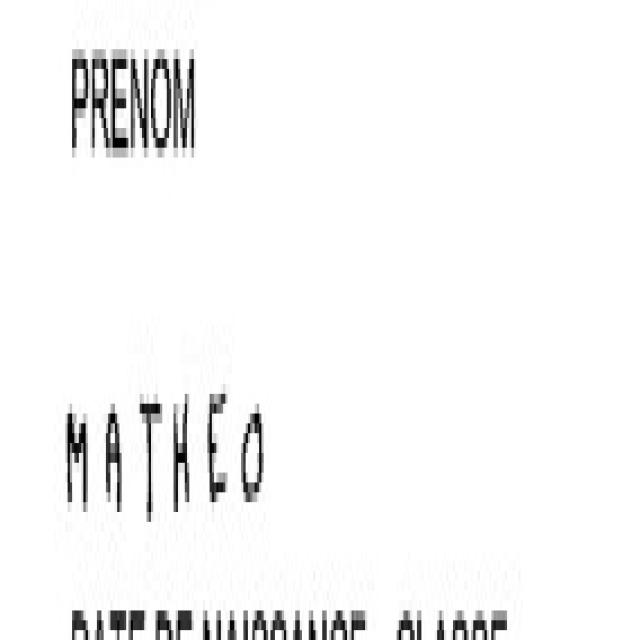A: (101, 361, 132, 542)
E: (204, 361, 235, 576)
H: (168, 375, 199, 525)
M: (56, 361, 98, 554)
O: (242, 344, 269, 534)
T: (138, 369, 165, 558)
